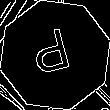P_S: (30, 26, 80, 84)
